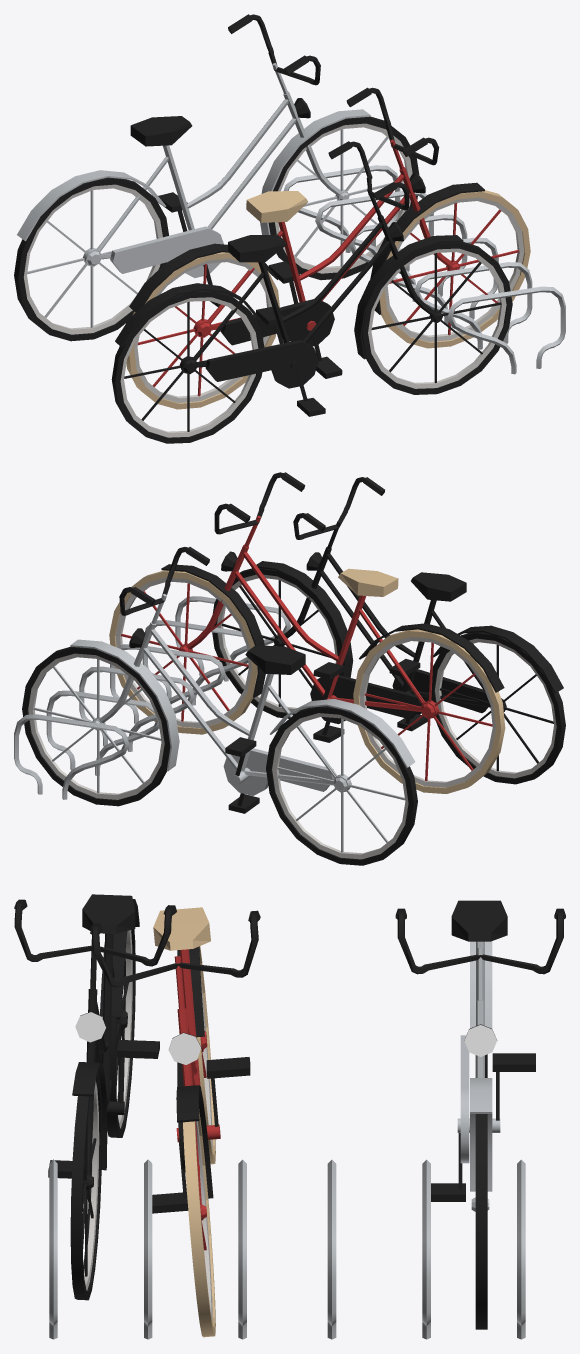
Rendered from SM_bicycle_stand_full.fbx.
3 renders of one model, top to bottom at view 1: azimuth 30°, elevation 25°; view 2: azimuth 150°, elevation 25°; view 3: azimuth 270°, elevation 25°, orthographic. The views are drawn at different scales.
Visible parts, largest first — view 1: Line036; view 2: Line036; view 3: Line036.
Boxes of the visible parts, x1,y1,x2,y2 form: Line036: (14, 14, 565, 443); Line036: (14, 472, 565, 865); Line036: (14, 894, 565, 1339).
Bounding box in the file's own units: 111 × 85.18 × 63.17.
